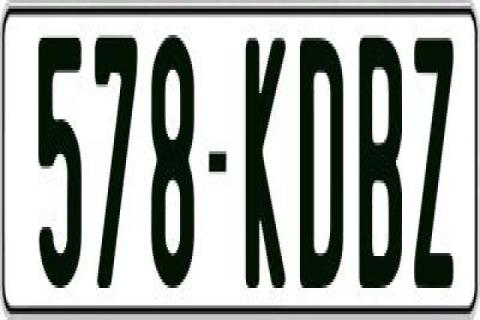0: (148, 26, 192, 291), (92, 29, 136, 291), (38, 32, 84, 282)
B: (358, 32, 406, 294)
D: (300, 38, 348, 297)
K: (242, 29, 288, 282)
Z: (412, 38, 456, 297)
